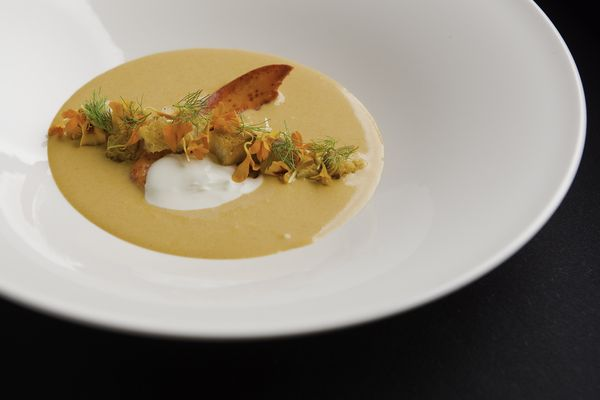curry: (9, 0, 589, 388)
